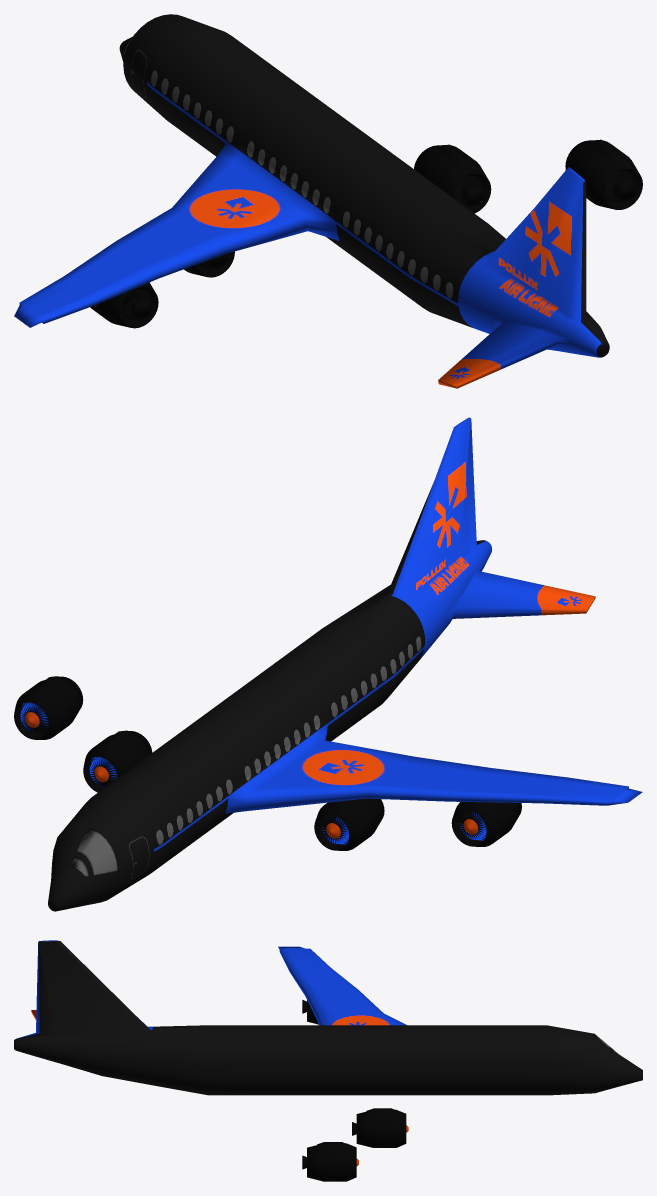
File: Avion.glb
The picture shows the model from 3 angles, top to bottom: view 1: azimuth 30°, elevation 25°; view 2: azimuth 150°, elevation 25°; view 3: azimuth 270°, elevation 25°; orthographic projection. The views are drawn at different scales.
Visible parts, largest first — view 1: Avion.001, Réacteur.004, Réacteur.005, Réacteur.001, Réacteur; view 2: Avion.001, Réacteur.004, Réacteur, Réacteur.005, Réacteur.001; view 3: Avion.001, Réacteur.005, Réacteur.004.
Part boxes in pixels (x1=…): Avion.001: x1=14, y1=14, x2=609, y2=388; Réacteur.004: x1=565, y1=139, x2=642, y2=209; Réacteur.005: x1=414, y1=144, x2=491, y2=213; Réacteur.001: x1=90, y1=282, x2=158, y2=328; Réacteur: x1=184, y1=251, x2=234, y2=277; Avion.001: x1=48, y1=417, x2=642, y2=911; Réacteur.004: x1=14, y1=676, x2=83, y2=739; Réacteur: x1=314, y1=798, x2=384, y2=850; Réacteur.005: x1=83, y1=730, x2=152, y2=792; Réacteur.001: x1=451, y1=802, x2=521, y2=846; Avion.001: x1=14, y1=940, x2=642, y2=1095; Réacteur.005: x1=352, y1=1108, x2=408, y2=1147; Réacteur.004: x1=302, y1=1142, x2=358, y2=1181.
Size of the model in its own units: 4.51 by 1.68 by 5.82.
15 materials, 3 textured.
